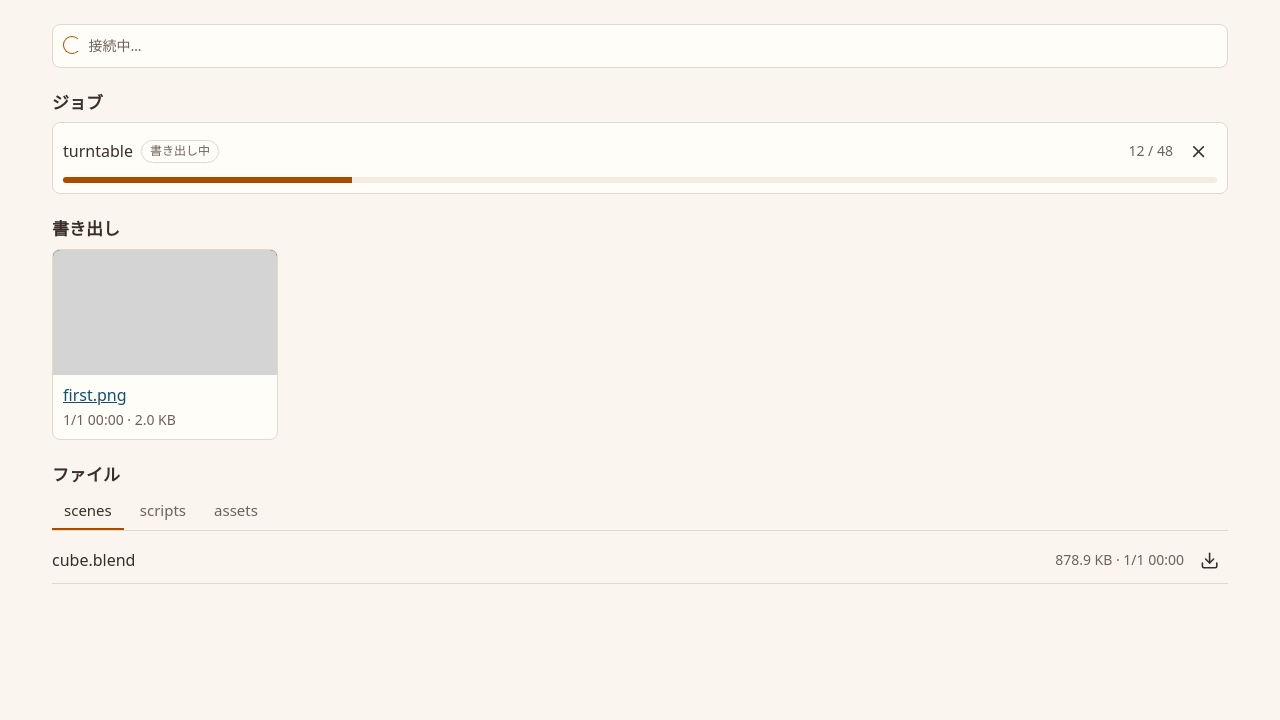
Test: Home › shows job progress and cancels from the browser
Expected: the text "12 / 48" is shown, top-left (1128, 140), bottom-right (1173, 163)
Click the button named "turntable を取り消す".
click(1199, 152)  # box top-left (1181, 134), bottom-right (1217, 170)
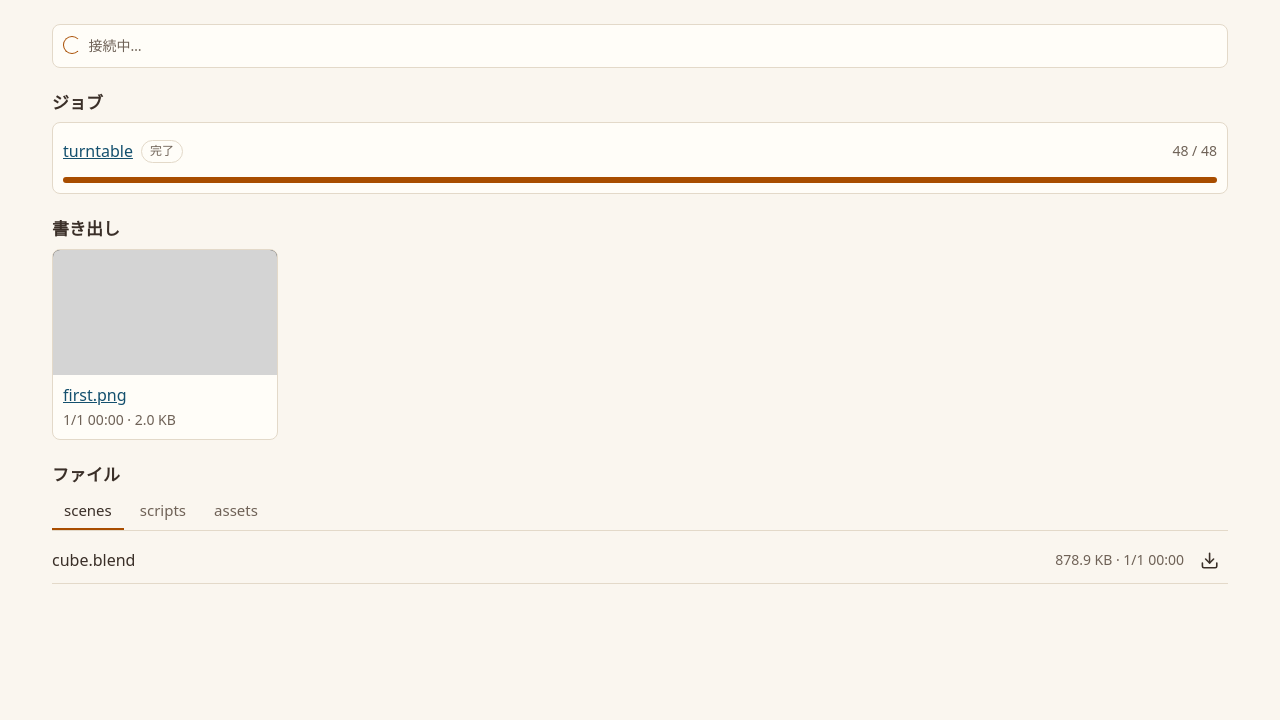
Expected: the text "完了" is shown, top-left (141, 140), bottom-right (183, 163)
